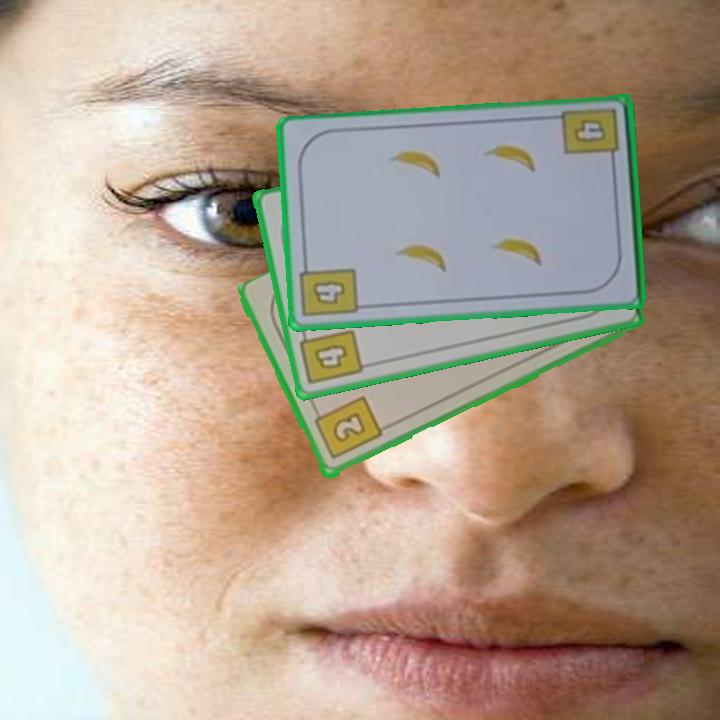2b: (310, 393, 385, 463)
4b: (297, 324, 366, 388), (559, 104, 623, 169), (297, 257, 361, 321)
